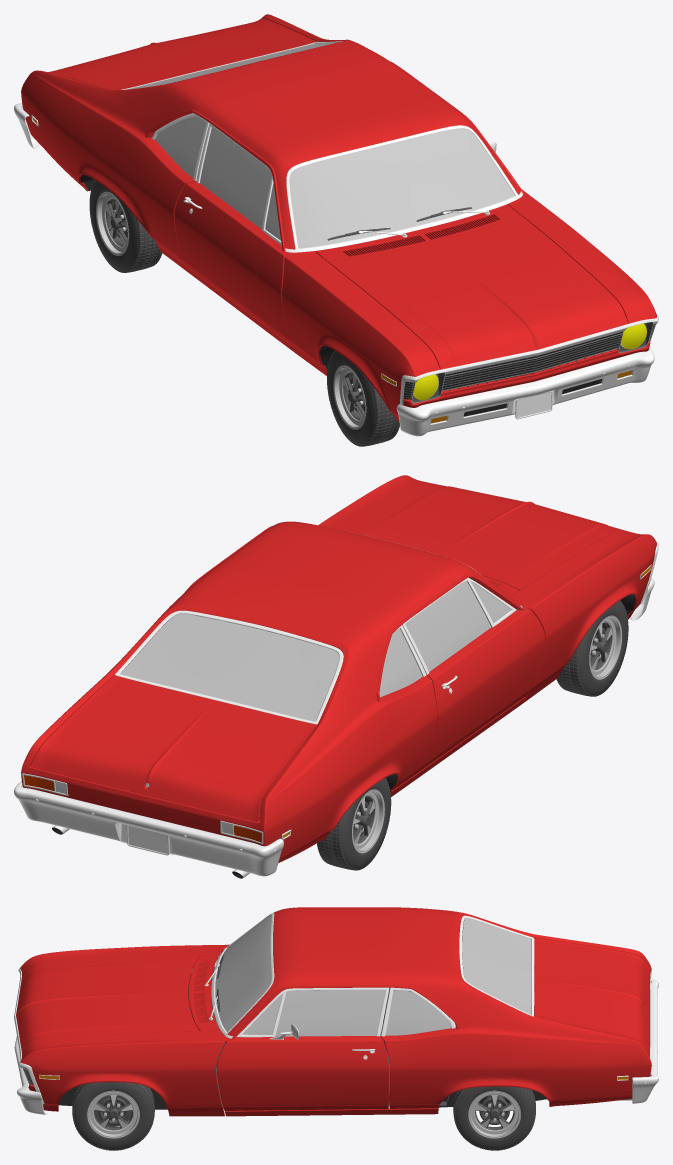
File: Generic_Old_Car.gltf
3 renders of one model, top to bottom at view 1: azimuth 30°, elevation 25°; view 2: azimuth 150°, elevation 25°; view 3: azimuth 270°, elevation 25°, orthographic. The views are drawn at different scales.
Visible parts, largest first — view 1: body_01, body_04, glass_01, body_05, chrome_04, chrome_03, body_03, black_03, dgray_01, body_02, chrome_01, tire_01 (+7 smaller); view 2: body_04, body_05, body_01, glass_01, chrome_04, chrome_03, tire_01, tire_03, silver_03, silver_04, tire_04, tire_02 (+4 smaller); view 3: body_04, body_01, body_05, glass_01, chrome_03, tire_05, tire_07, chrome_04, body_03, silver_05, silver_06, dgray_18 (+6 smaller).
Boxes of the visible parts, x1,y1,x2,y2 form: body_01: (282, 194, 656, 422); body_04: (21, 14, 520, 266); glass_01: (127, 42, 514, 248); body_05: (48, 18, 529, 351); chrome_04: (14, 103, 654, 436); chrome_03: (31, 41, 522, 386); body_03: (315, 204, 519, 261); black_03: (403, 324, 654, 416); dgray_01: (403, 324, 655, 398); body_02: (403, 340, 650, 407); chrome_01: (400, 314, 658, 405); tire_01: (327, 352, 375, 444); body_04: (21, 521, 520, 862); body_05: (30, 526, 545, 821); body_01: (318, 475, 656, 703); glass_01: (120, 581, 510, 721); chrome_04: (14, 578, 654, 876); chrome_03: (22, 561, 651, 844); tire_01: (579, 601, 627, 694); tire_03: (342, 778, 390, 868); silver_03: (589, 615, 622, 679); silver_04: (352, 789, 384, 853); tire_04: (317, 778, 391, 870); tire_02: (556, 600, 628, 696); body_04: (227, 907, 651, 1108); body_01: (16, 944, 230, 1116); body_05: (217, 938, 648, 1116); glass_01: (215, 915, 531, 1036); chrome_03: (39, 913, 651, 1080); tire_05: (74, 1082, 152, 1149); tire_07: (456, 1086, 533, 1149); chrome_04: (14, 979, 658, 1114); body_03: (188, 954, 219, 1030); silver_05: (87, 1090, 139, 1138); silver_06: (468, 1090, 520, 1138); dgray_18: (94, 1095, 132, 1130).
Size of the model in its own units: 1.95 by 1.39 by 4.99.
Materials: 16 (2 with a texture image).
